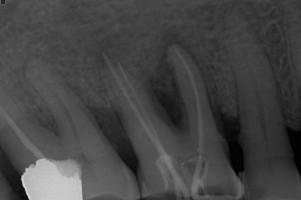Dental Caries: (139, 25, 201, 129), (96, 33, 138, 70)
